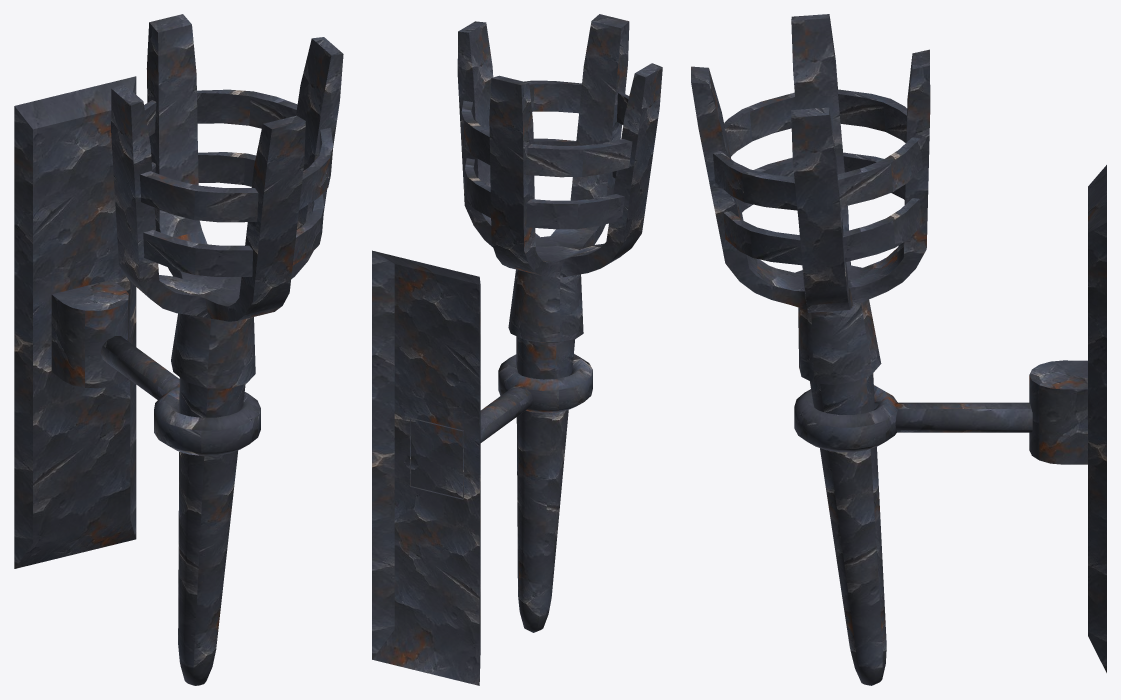
Rendered from furn_wall_torch_iron.glb.
3 renders of one model, left to right at view 1: azimuth 30°, elevation 25°; view 2: azimuth 150°, elevation 25°; view 3: azimuth 270°, elevation 25°, orthographic. The views are drawn at different scales.
Parts seen in each view (by area): view 1: model; view 2: model; view 3: model.
Part boxes in pixels (left/top/right/bottom): model: left=14, top=14, right=343, bottom=685; model: left=372, top=14, right=662, bottom=685; model: left=691, top=14, right=1106, bottom=685.
Bounding box in the file's own units: 0.2678 × 0.7778 × 0.4661.
1 material, 1 textured.
